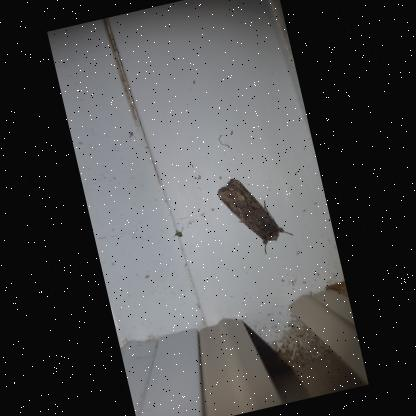Fall Armyworm Moth: (214, 166, 298, 263)
